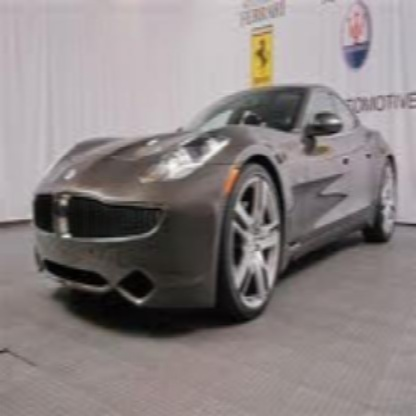Vehicle: (29, 81, 401, 330)
